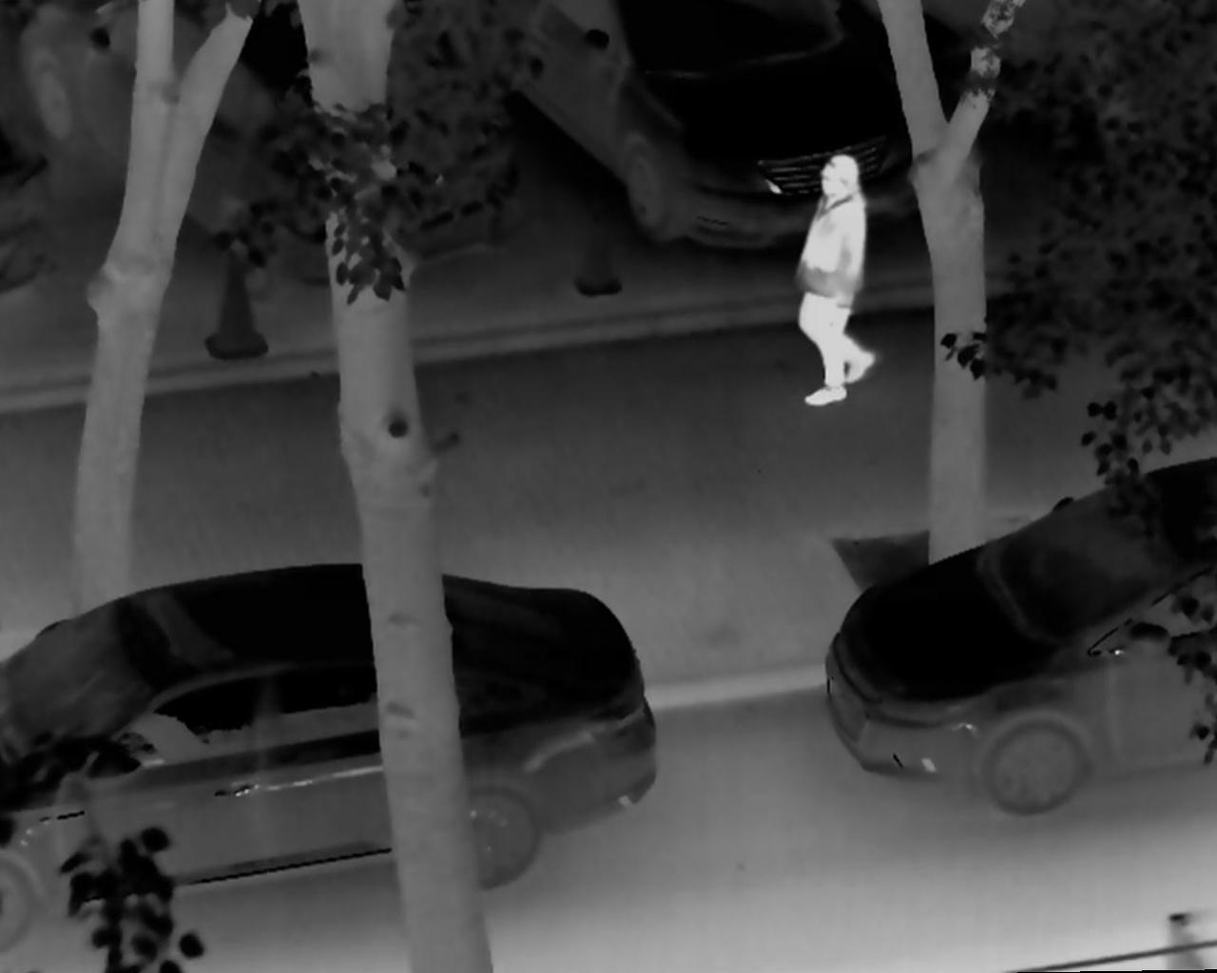person: (781, 150, 882, 411)
